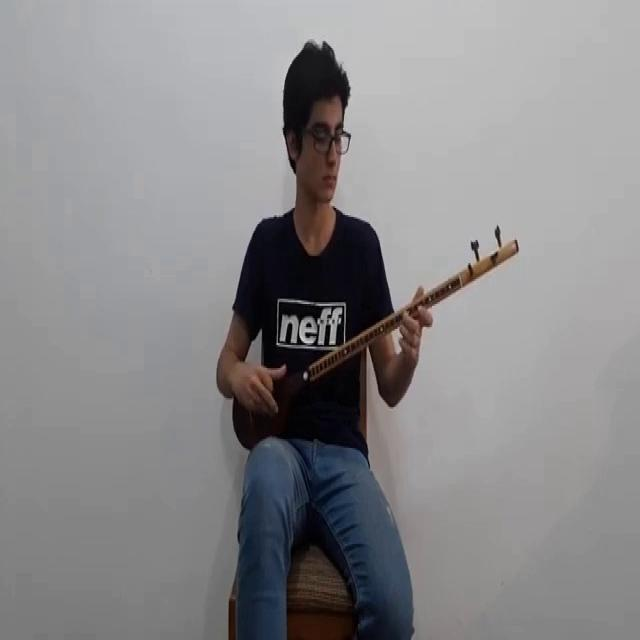Setar: (228, 221, 539, 462)
